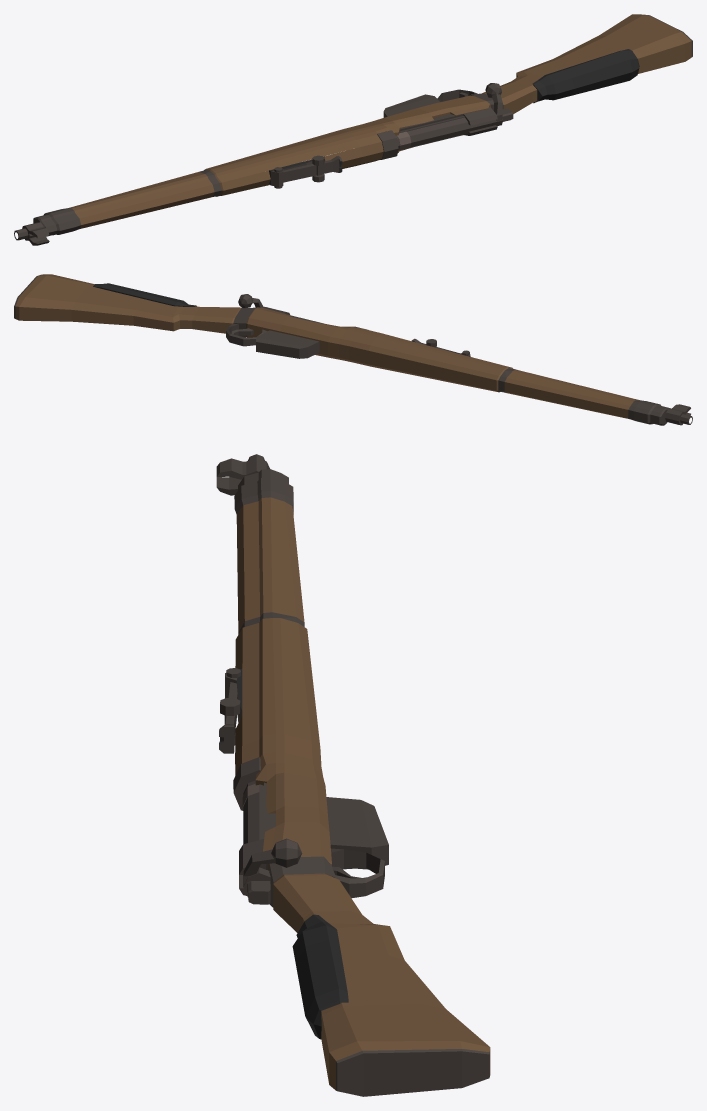
The model's file is LeeEnfield_3D.glb.
The picture shows the model from 3 angles, top to bottom: view 1: azimuth 30°, elevation 25°; view 2: azimuth 150°, elevation 25°; view 3: azimuth 270°, elevation 25°; orthographic projection. The views are drawn at different scales.
Parts seen in each view (by area): view 1: LeeEnfieldLowPoly; view 2: LeeEnfieldLowPoly; view 3: LeeEnfieldLowPoly.
Part boxes in pixels (<box>): LeeEnfieldLowPoly: <box>14,14,692,245</box>; LeeEnfieldLowPoly: <box>14,274,692,425</box>; LeeEnfieldLowPoly: <box>216,454,490,1096</box>.
Bounding box in the file's own units: 1.08 × 0.0643 × 0.203.
1 material, 1 textured.
